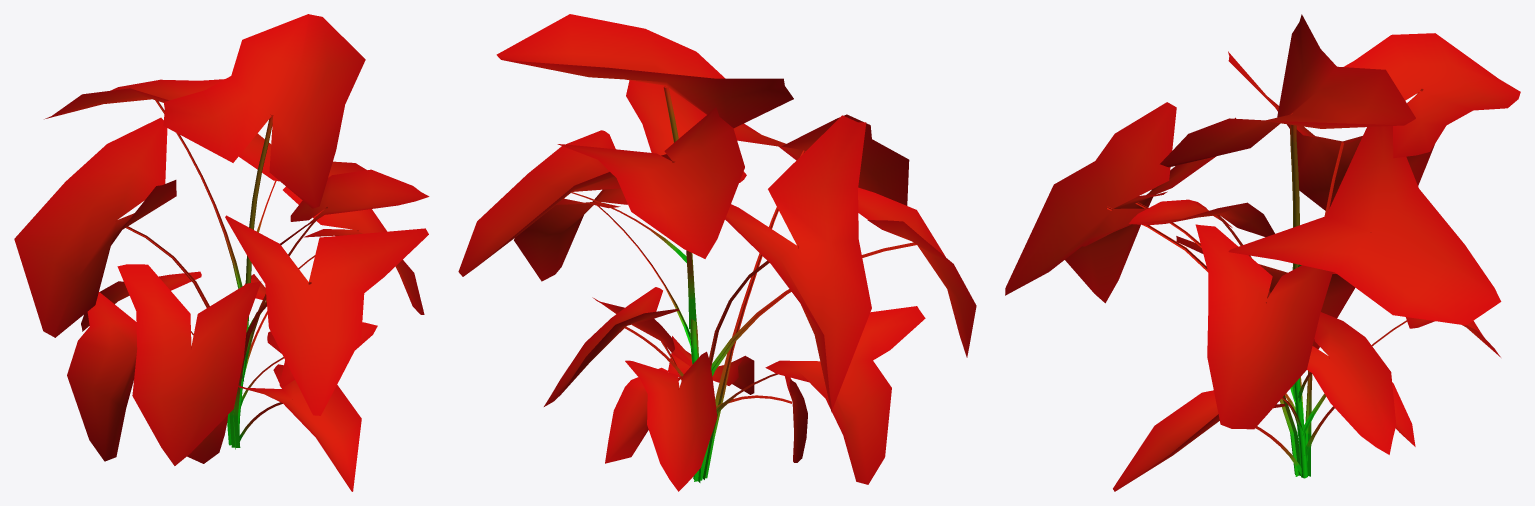
The model's file is FBX_Plant_3D_001.fbx.
3 renders of one model, left to right at view 1: azimuth 30°, elevation 25°; view 2: azimuth 150°, elevation 25°; view 3: azimuth 270°, elevation 25°, orthographic. The views are drawn at different scales.
Parts seen in each view (by area): view 1: Var1_LOD1; view 2: Var1_LOD1; view 3: Var1_LOD1.
Boxes of the visible parts, left/top/right/bottom form: Var1_LOD1: left=14, top=14, right=429, bottom=491; Var1_LOD1: left=458, top=14, right=976, bottom=491; Var1_LOD1: left=1005, top=14, right=1520, bottom=491.
Bounding box in the file's own units: 44.46 × 47.88 × 51.9.
